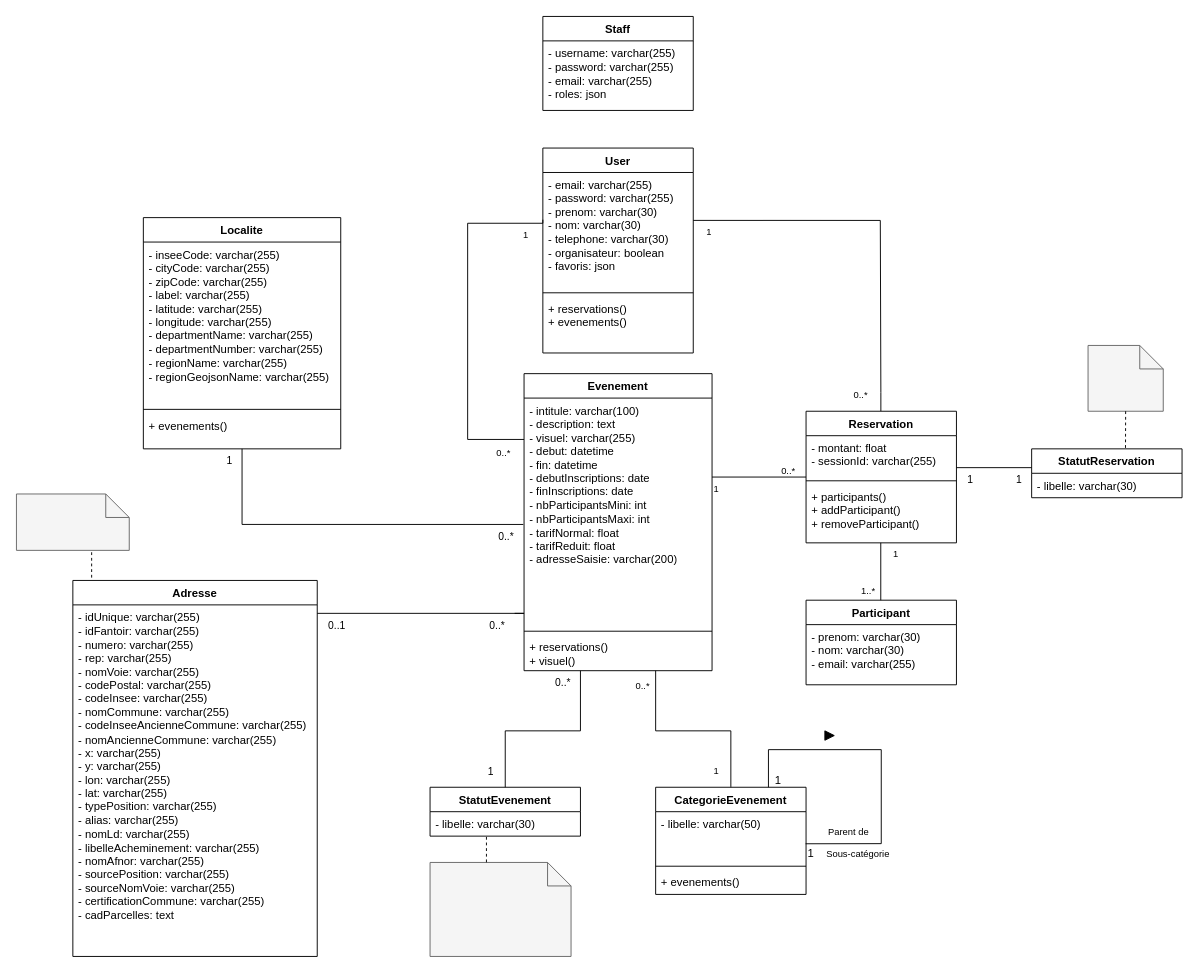
This 1199x976 diagram has some shape labels left out. The shapes that lost their labels are listed below. From the top down, each one's centre as x and y in pixels, then its label:
the point at 1125,378: Validée Annulée
the point at 72,521: Index sur idUnique
the point at 500,909: En attente de validation Validé Refusé Annulé
